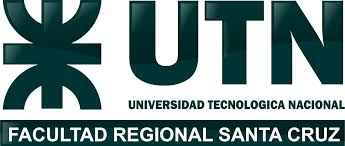utn: (4, 1, 101, 109)
